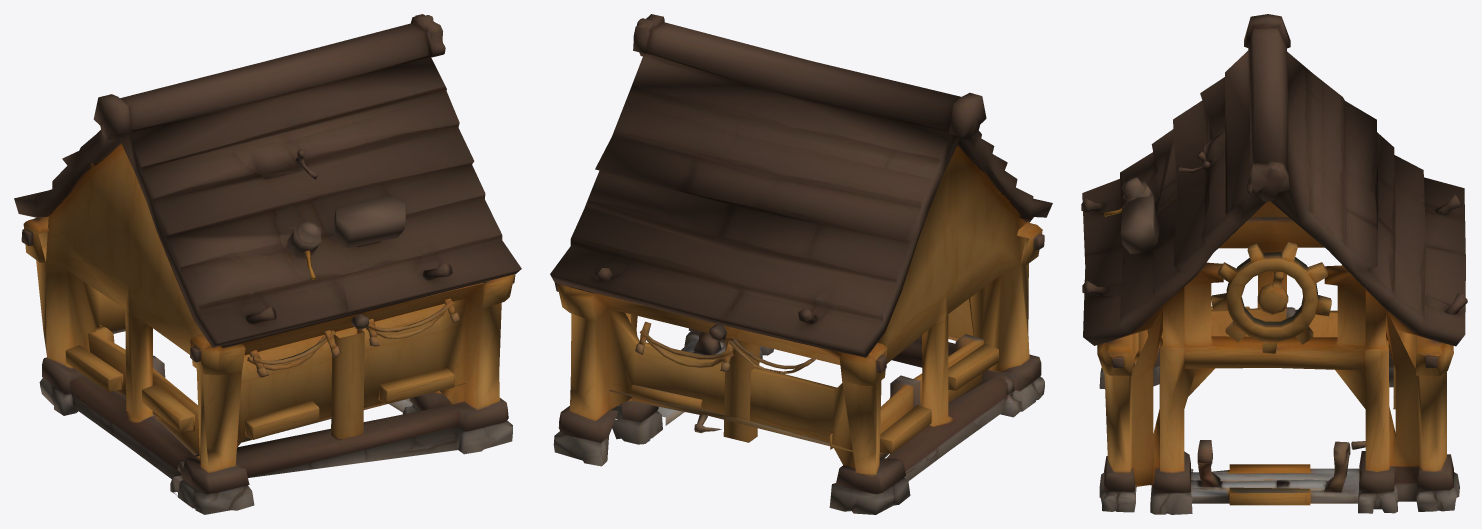
3 renders of one model, left to right at view 1: azimuth 30°, elevation 25°; view 2: azimuth 150°, elevation 25°; view 3: azimuth 270°, elevation 25°, orthographic. The views are drawn at different scales.
Parts seen in each view (by area): view 1: tripo_node_1d4b6f5d-fab0-4f81-bba0-ee99f20ebfe7; view 2: tripo_node_1d4b6f5d-fab0-4f81-bba0-ee99f20ebfe7; view 3: tripo_node_1d4b6f5d-fab0-4f81-bba0-ee99f20ebfe7.
Boxes of the visible parts, x1,y1,x2,y2 form: tripo_node_1d4b6f5d-fab0-4f81-bba0-ee99f20ebfe7: [14, 14, 521, 514]; tripo_node_1d4b6f5d-fab0-4f81-bba0-ee99f20ebfe7: [550, 14, 1052, 514]; tripo_node_1d4b6f5d-fab0-4f81-bba0-ee99f20ebfe7: [1081, 14, 1467, 514].
Size of the model in its own units: 1.15 by 1.2 by 1.2.
Materials: 1 (1 with a texture image).
